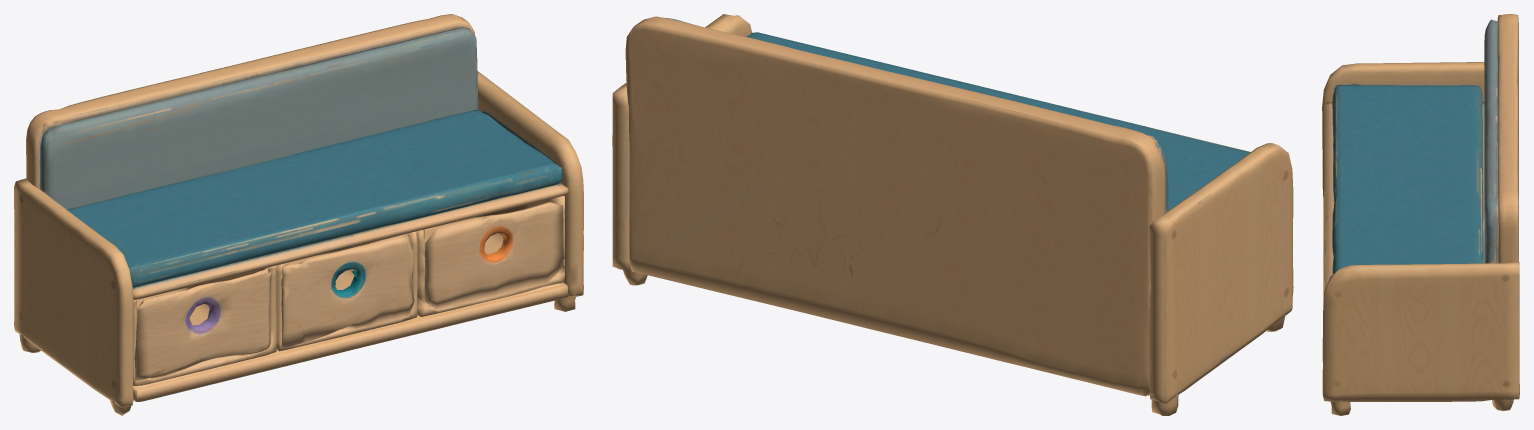
Rendered from storage-bench.glb.
3 views of the same model, side by side, from view 1: azimuth 30°, elevation 25°; view 2: azimuth 150°, elevation 25°; view 3: azimuth 270°, elevation 25° (orthographic). The views are drawn at different scales.
Visible parts, largest first — view 1: Mesh0; view 2: Mesh0; view 3: Mesh0.
Part boxes in pixels (x1=…): Mesh0: x1=14, y1=14, x2=583, y2=415; Mesh0: x1=612, y1=14, x2=1293, y2=415; Mesh0: x1=1322, y1=14, x2=1519, y2=415.
Size of the model in its own units: 1.47 by 0.7 by 0.5981.
1 material, 1 textured.
